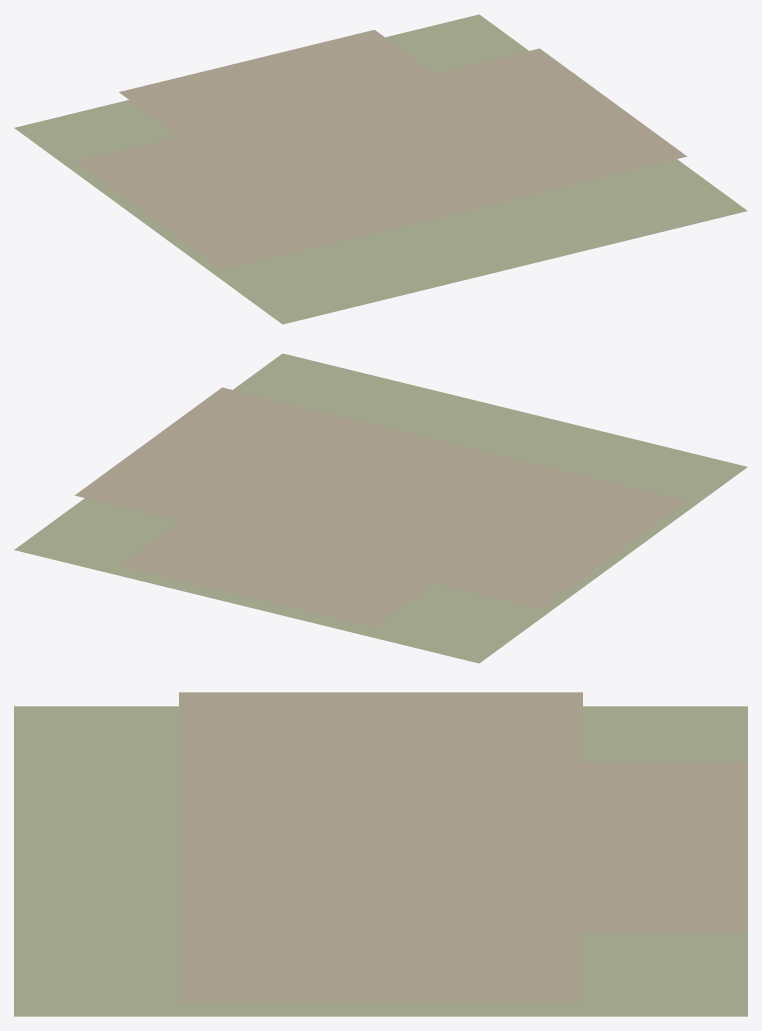
3 views of the same model, one above another, from view 1: azimuth 30°, elevation 25°; view 2: azimuth 150°, elevation 25°; view 3: azimuth 270°, elevation 25° (orthographic). The views are drawn at different scales.
Parts seen in each view (by area): view 1: Near; view 2: Near; view 3: Near.
Boxes of the visible parts, x1,y1,x2,y2 form: Near: (14,14,747,324); Near: (14,353,747,663); Near: (14,692,747,1016).
Size of the model in its own units: 1 by 0.021 by 1.
